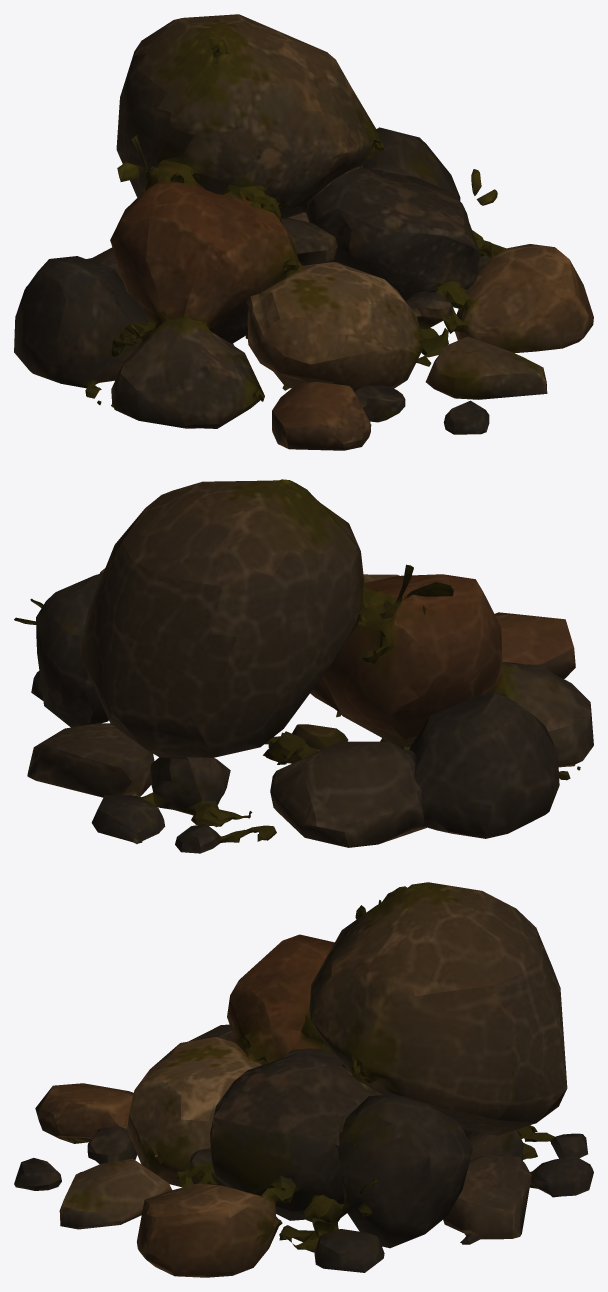
The model's file is stone-pile.glb.
The picture shows the model from 3 angles, top to bottom: view 1: azimuth 30°, elevation 25°; view 2: azimuth 150°, elevation 25°; view 3: azimuth 270°, elevation 25°; orthographic projection. The views are drawn at different scales.
Parts seen in each view (by area): view 1: Mesh0; view 2: Mesh0; view 3: Mesh0.
Boxes of the visible parts, x1,y1,x2,y2 form: Mesh0: (14,14,593,450); Mesh0: (14,479,593,853); Mesh0: (14,882,593,1277).
Bounding box in the file's own units: 1.69 × 0.9053 × 1.77.
1 material, 1 textured.
